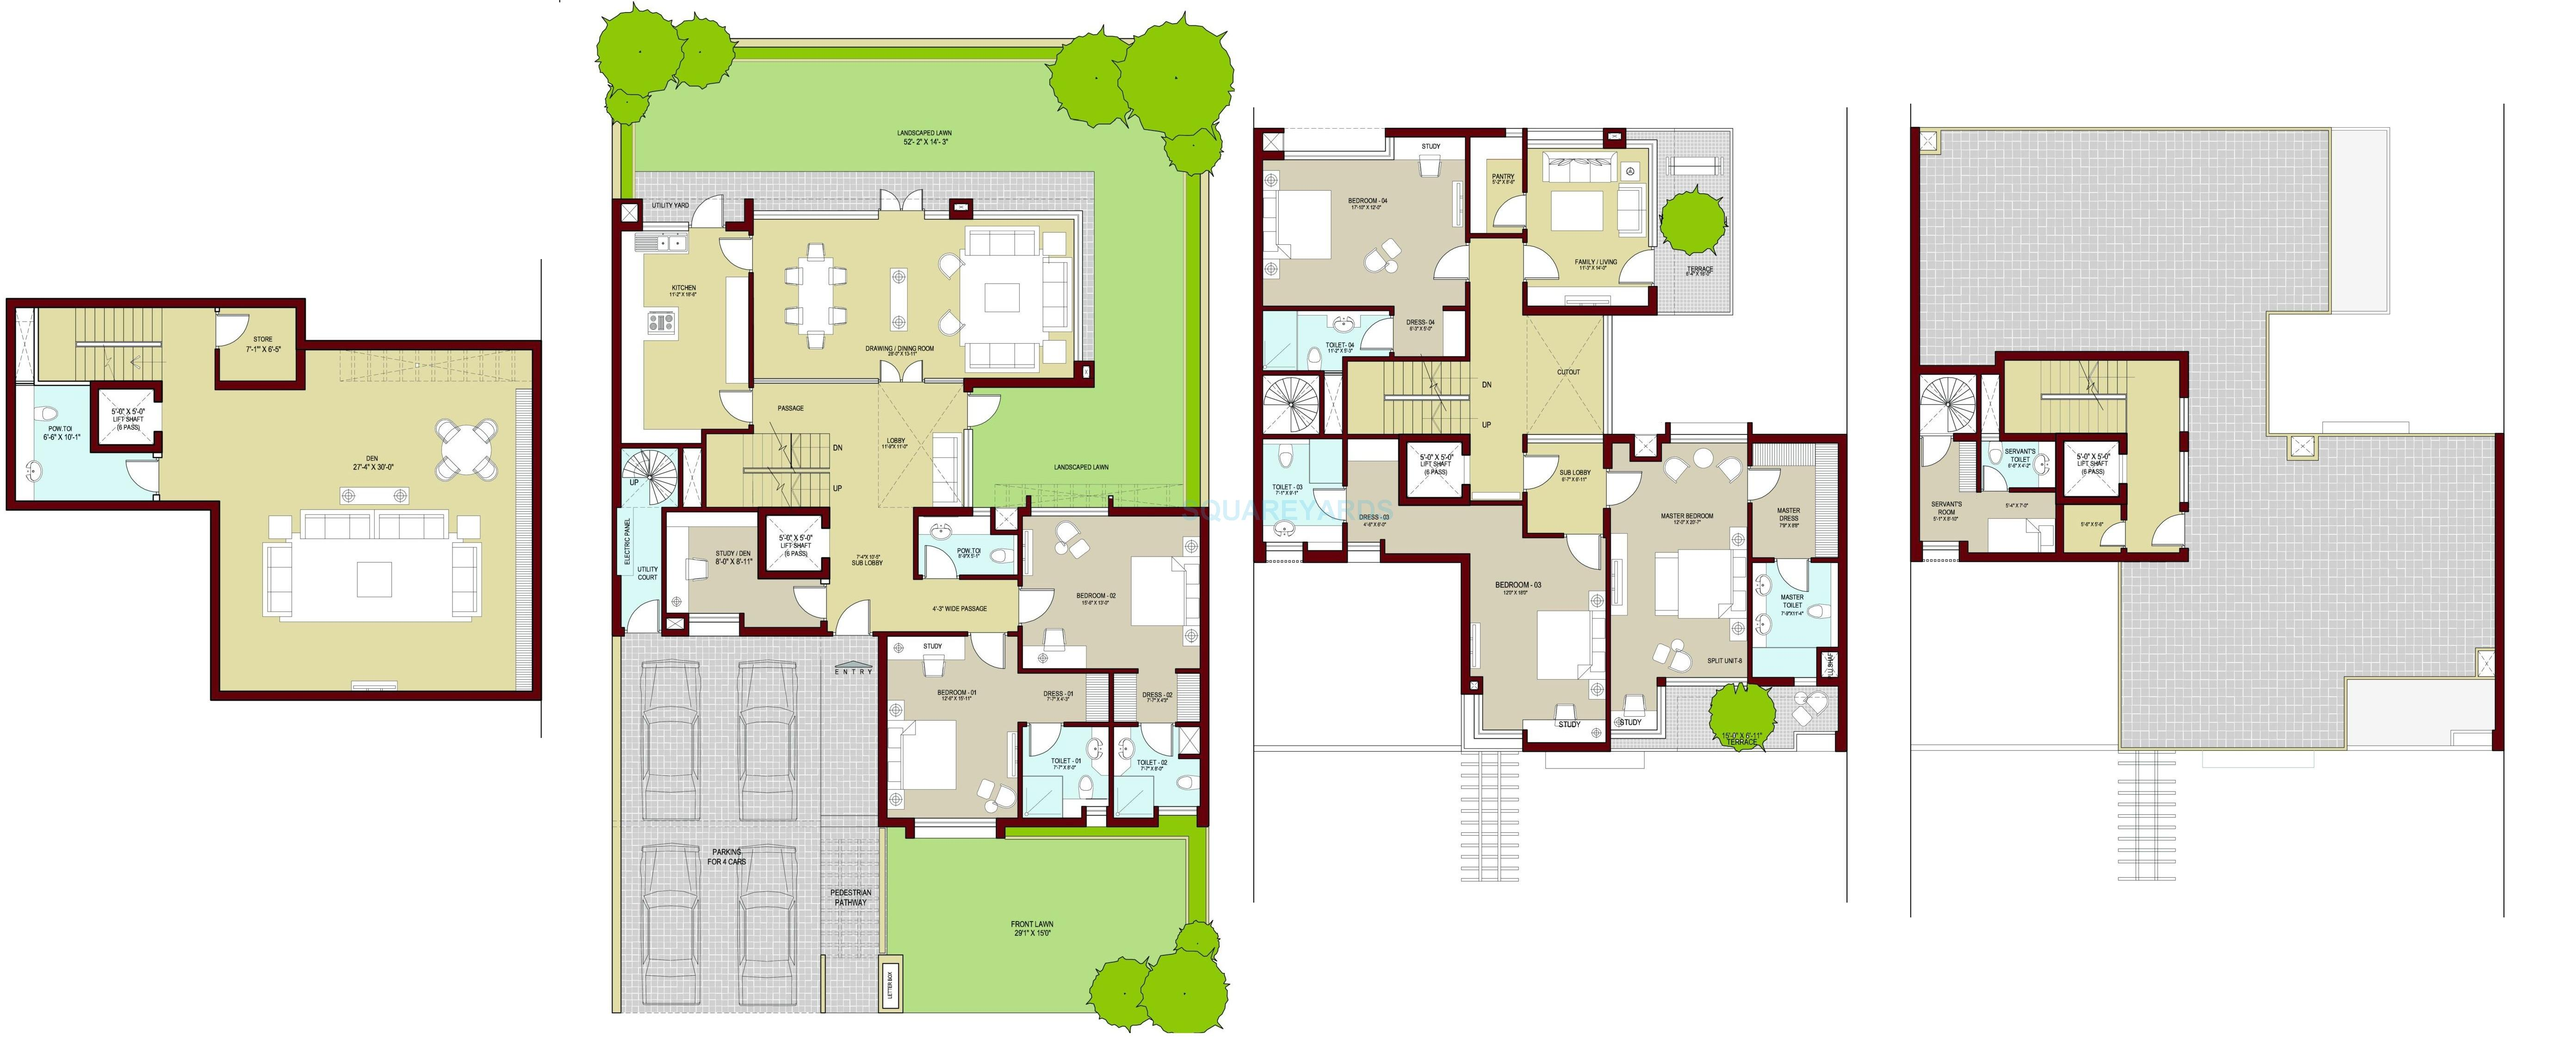door: (1564, 532, 1603, 572), (2147, 513, 2188, 550), (1431, 240, 1467, 283), (968, 633, 1007, 669), (1605, 468, 1641, 506), (1745, 467, 1781, 504), (1020, 585, 1055, 624), (1027, 721, 1061, 761), (1525, 453, 1561, 490), (718, 235, 752, 273), (623, 596, 662, 629), (922, 544, 958, 578), (1776, 557, 1810, 593), (836, 600, 874, 633), (790, 585, 828, 618), (718, 388, 752, 422), (1359, 317, 1393, 352), (1311, 486, 1345, 521), (1140, 723, 1175, 757), (968, 394, 1002, 427), (877, 360, 923, 383), (1920, 435, 1952, 468), (2098, 519, 2129, 549), (1981, 463, 2009, 493)
